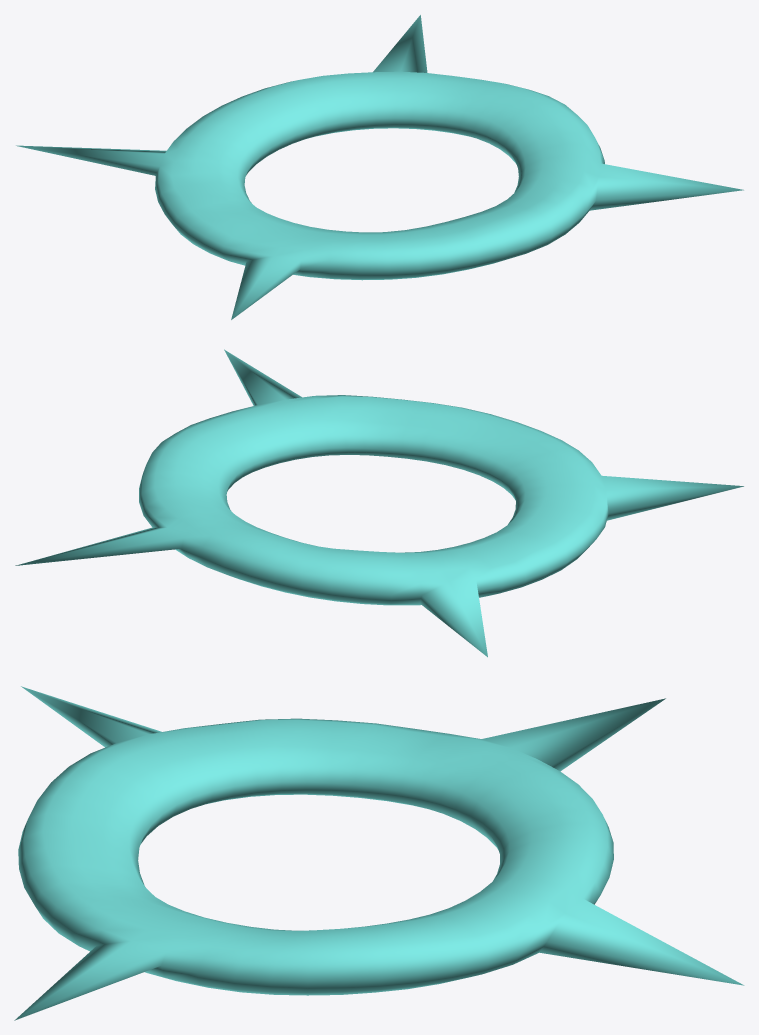
The model's file is ArraignCrown.fbx.
3 renders of one model, top to bottom at view 1: azimuth 30°, elevation 25°; view 2: azimuth 150°, elevation 25°; view 3: azimuth 270°, elevation 25°, orthographic. The views are drawn at different scales.
Visible parts, largest first — view 1: Arraign Body.001; view 2: Arraign Body.001; view 3: Arraign Body.001.
Part boxes in pixels (box(x1,y1,x2,y2)): Arraign Body.001: box(16, 15, 743, 319); Arraign Body.001: box(15, 349, 743, 657); Arraign Body.001: box(14, 686, 744, 1020).
Size of the model in its own units: 0.3892 by 0.0363 by 0.3487.
1 material, 1 textured.
